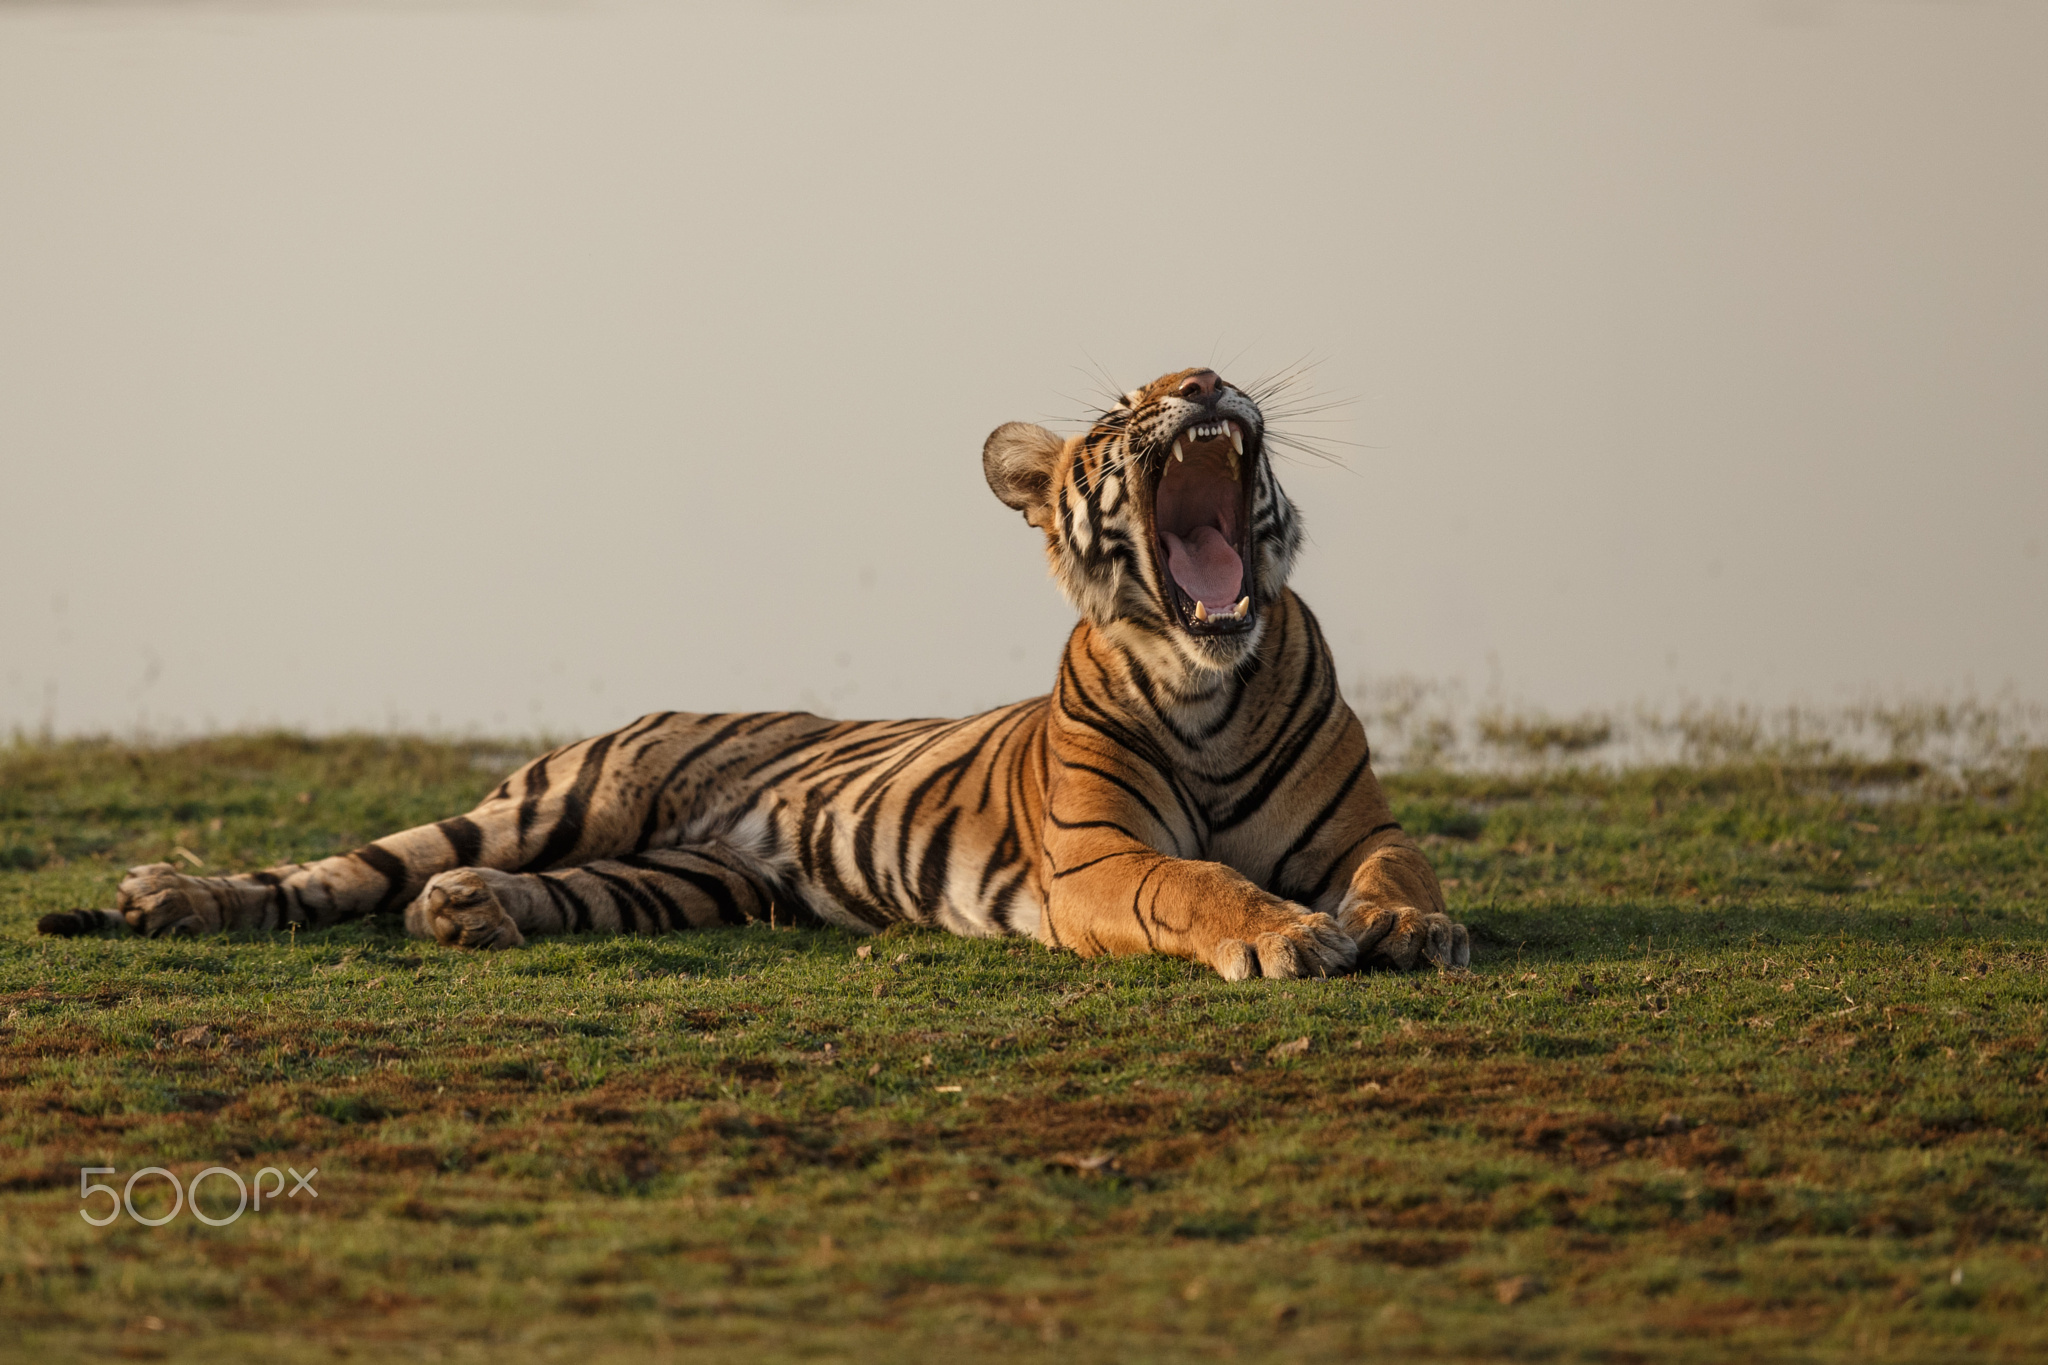tiger: (455, 373, 1491, 992)
